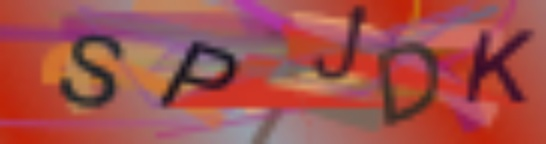D: (376, 39, 441, 128)
J: (312, 3, 366, 80)
K: (466, 27, 533, 105)
P: (157, 41, 239, 110)
S: (57, 33, 122, 110)
